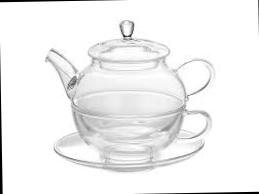glass: (42, 11, 226, 161)
